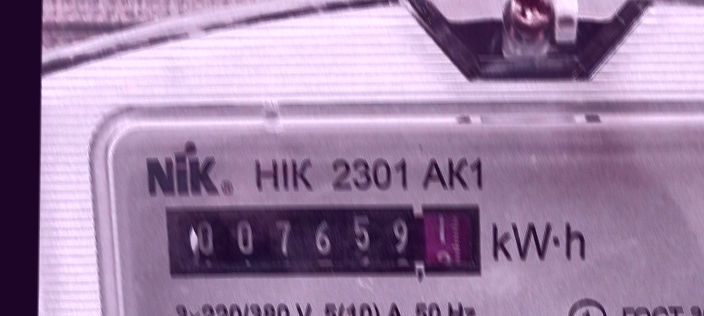0: (233, 218, 257, 256), (194, 218, 216, 257)
1: (433, 210, 450, 246)
5: (351, 214, 372, 251)
6: (311, 219, 334, 255)
7: (271, 218, 293, 256)
9: (389, 217, 411, 254)
screen: (156, 195, 491, 289)
